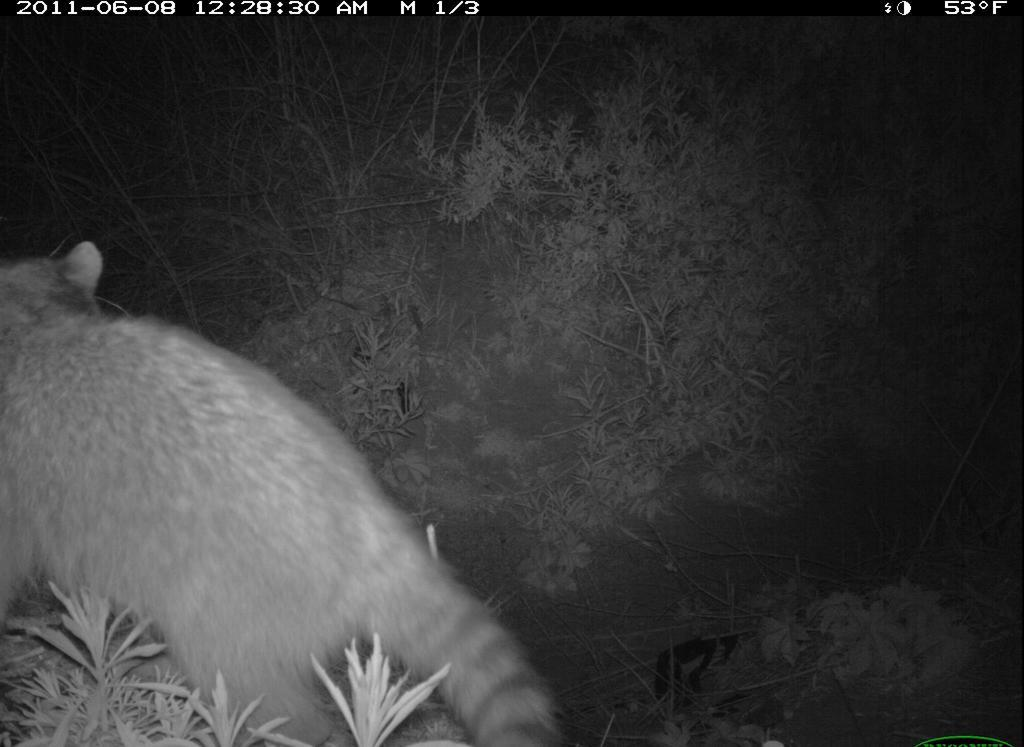raccoon: (1, 244, 574, 747)
